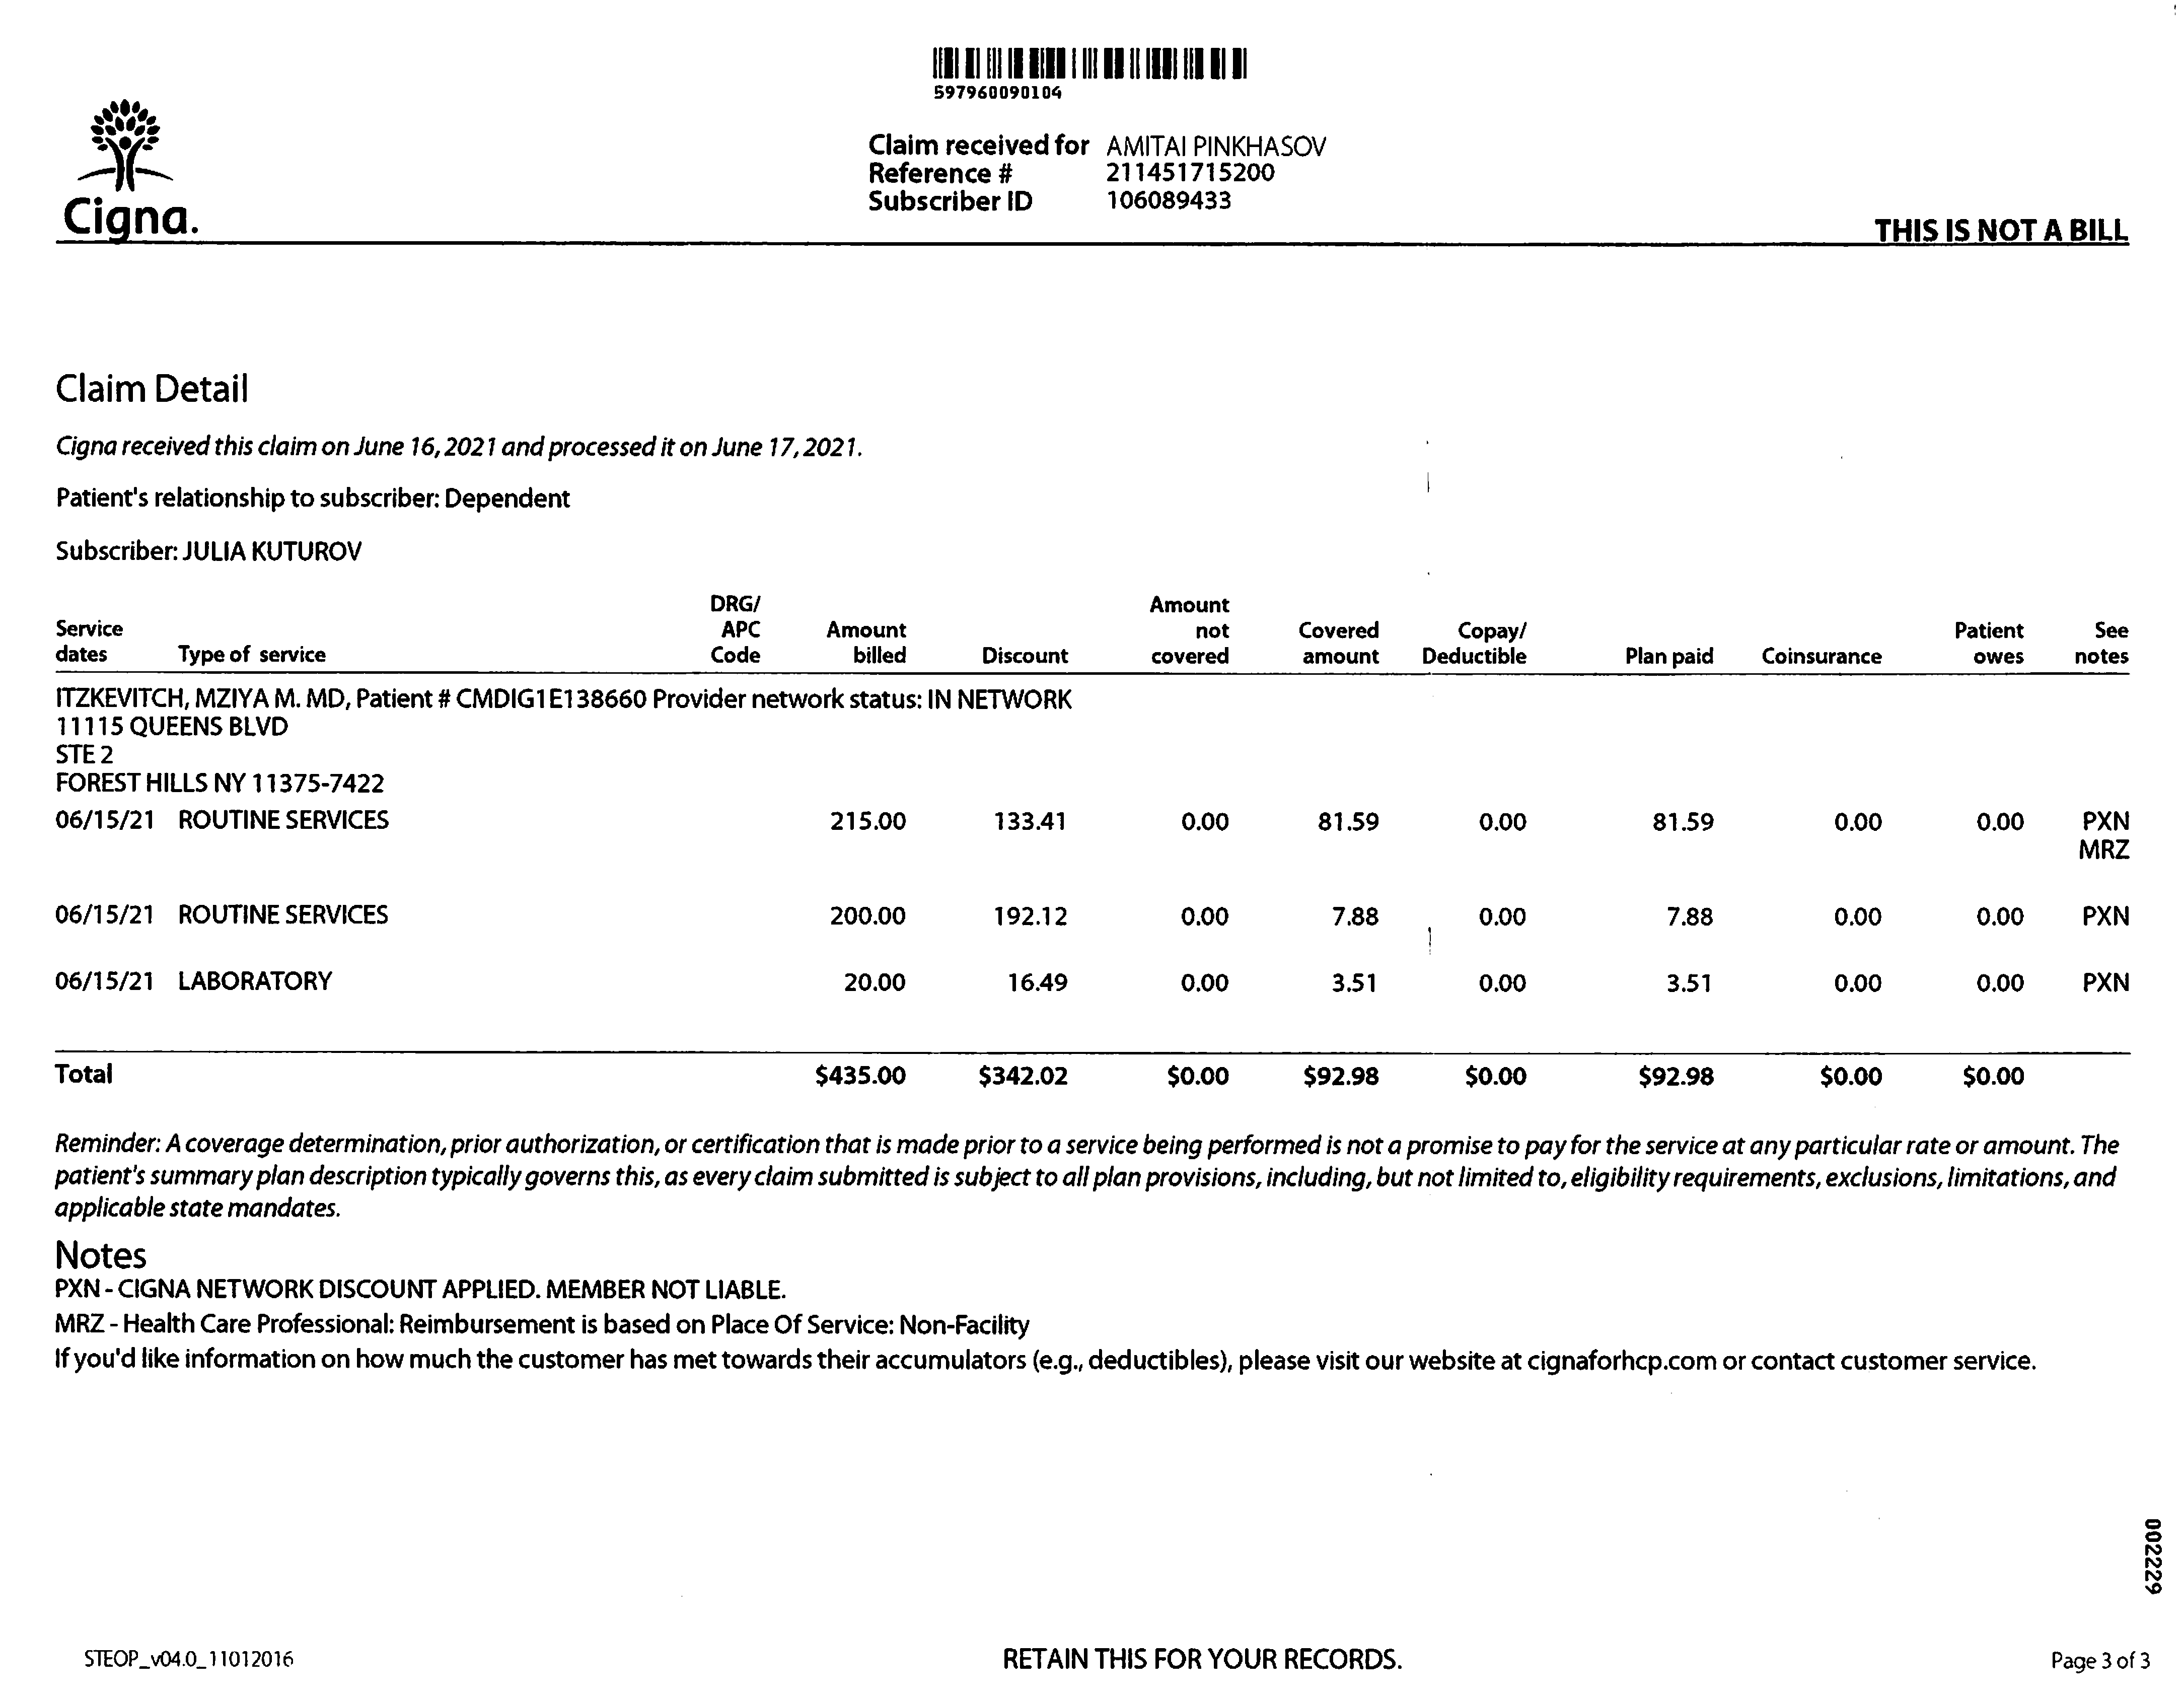table: (39, 603, 2149, 1112)
